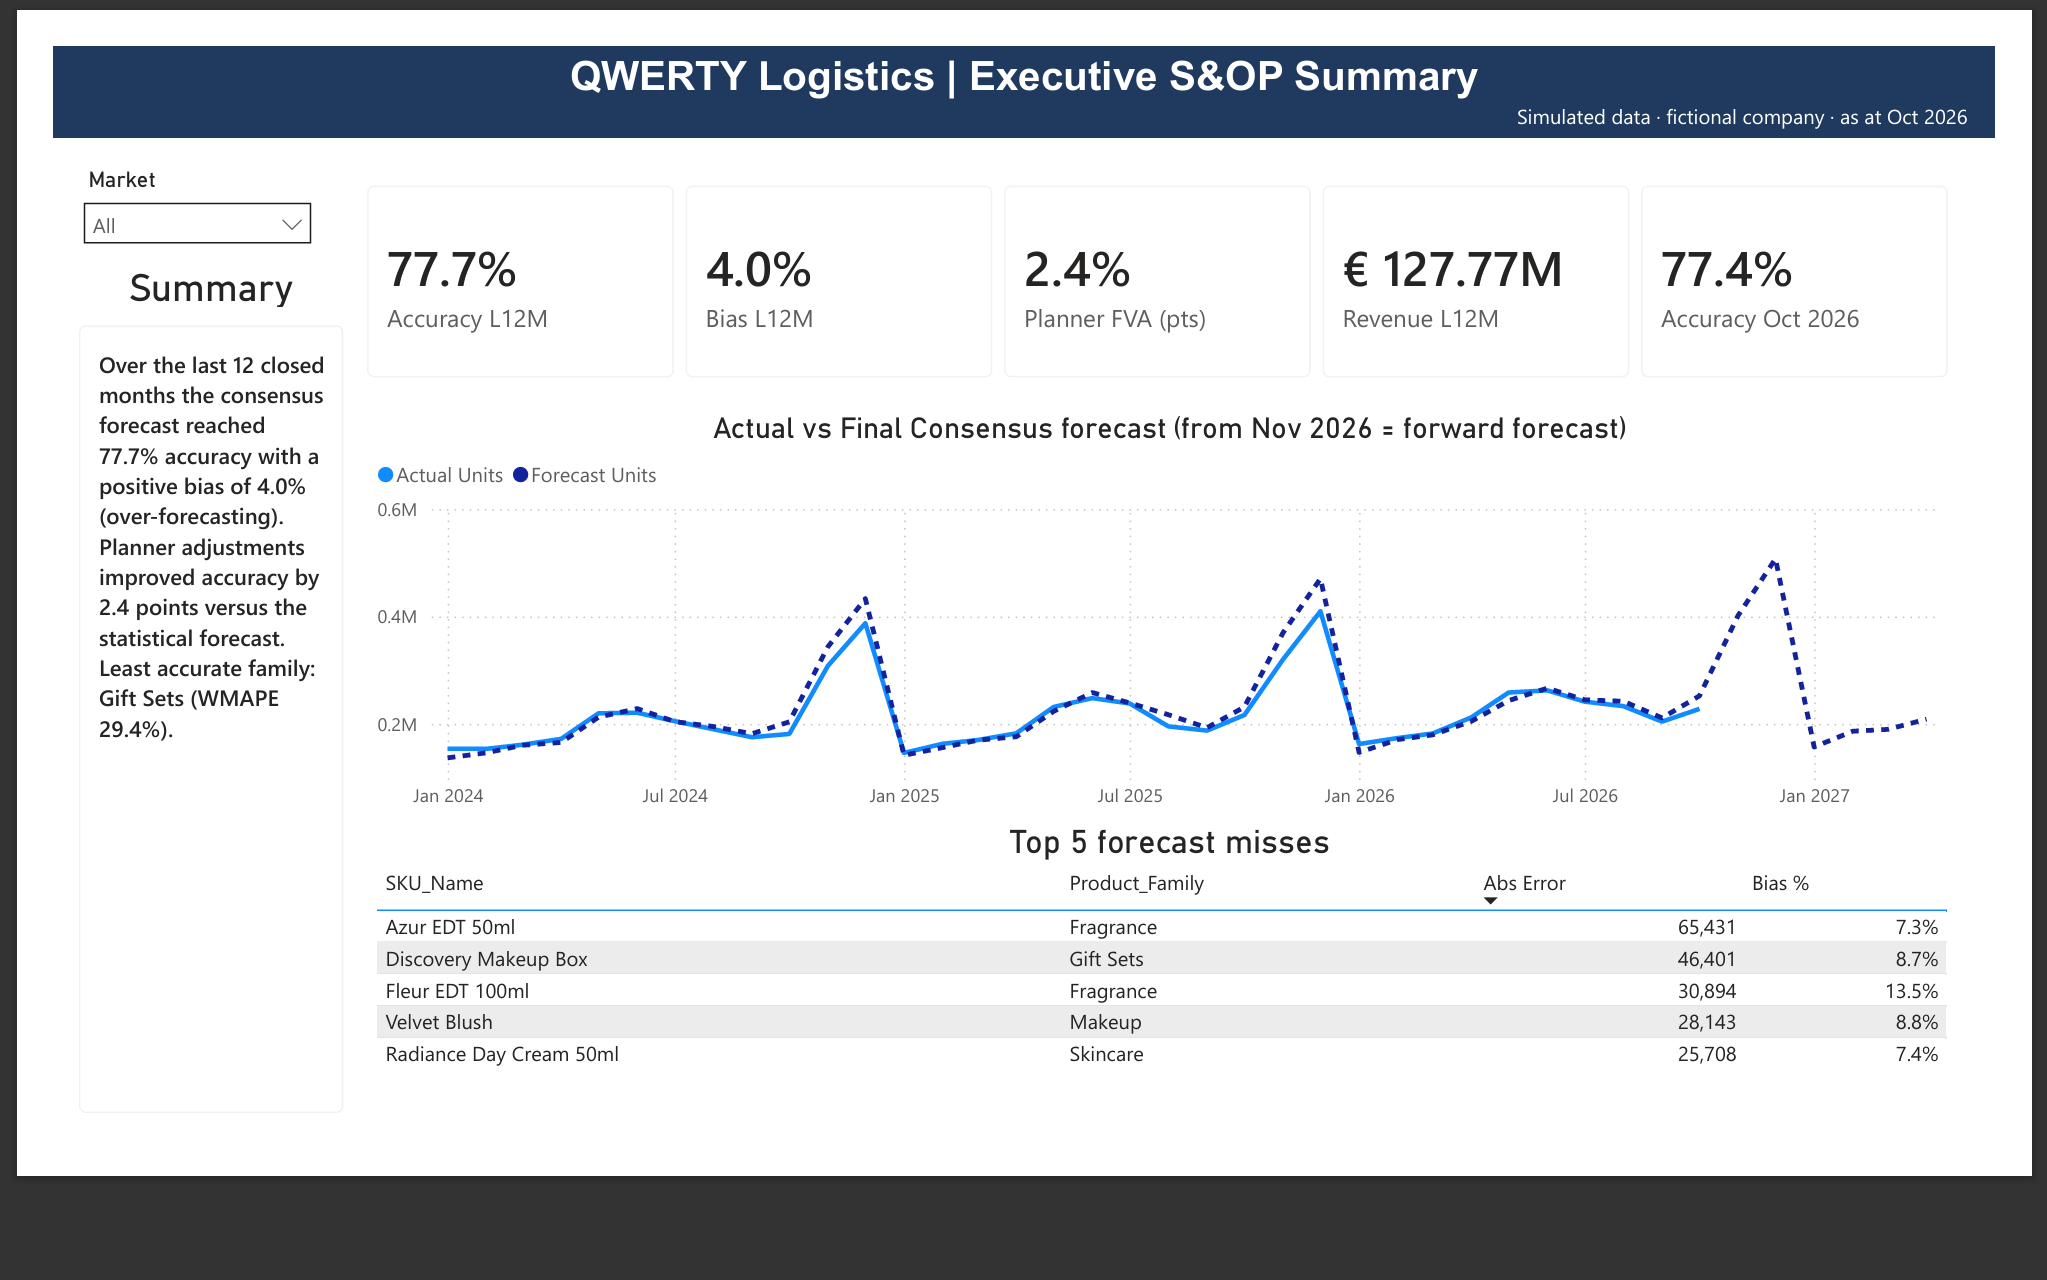

The dashboard page shown, as its layout file describes it:
{"tool":"powerbi","page":{"name":"Executive summary","canvas":[1280,720],"ordinal":0},"visuals":[{"type":"shape","box":[0,0,1280,60],"z":0},{"type":"textbox","box":[0,0,1280,60],"z":1000},{"type":"textbox","box":[960,32,320,32],"z":2000},{"type":"cardVisual","fields":{"Data":["_Measures.Forecast Accuracy %","_Measures.Bias %","_Measures.FVA Final vs Stat (pts)","_Measures.Net Revenue","_Measures.Accuracy Last Month"]},"box":[190,75,1080,160],"z":3000},{"type":"lineChart","title":"Actual vs Final Consensus forecast (from Nov 2026 = forward forecast)","fields":{"Category":["dim_date.Month_Start"],"Y":["_Measures.Actual Units","_Measures.Forecast Units"]},"box":[208,240,1056,272],"z":4000},{"type":"tableEx","title":"Top 5 forecast misses","fields":{"Values":["dim_product.SKU_Name","dim_product.Product_Family","_Measures.Abs Error","_Measures.Bias %"]},"box":[208,512,1056,176],"z":5000},{"type":"slicer","fields":{"Values":["dim_market.Market_Name"]},"box":[10,75,170,70],"z":6000},{"type":"cardVisual","title":"Summary","fields":{"Data":["_Measures.Exec Summary Text"]},"box":[0,144,208,576],"z":7000}]}

Visuals, with their boxes on the page's 1280x720 design canvas (x1, y1, x2, y2). These are canvas units, not pixel positions in the 2047x1280 screenshot, which may show the page scaled, cropped or inside an application window:
shape: locate(0, 0, 1280, 60)
textbox: locate(0, 0, 1280, 60)
textbox: locate(960, 32, 1280, 64)
cardVisual - _Measures.Forecast Accuracy % x _Measures.Bias %: locate(190, 75, 1270, 235)
"Actual vs Final Consensus forecast (from Nov 2026 = forward forecast)" lineChart: locate(208, 240, 1264, 512)
"Top 5 forecast misses" tableEx: locate(208, 512, 1264, 688)
slicer - dim_market.Market_Name: locate(10, 75, 180, 145)
"Summary" cardVisual: locate(0, 144, 208, 720)
